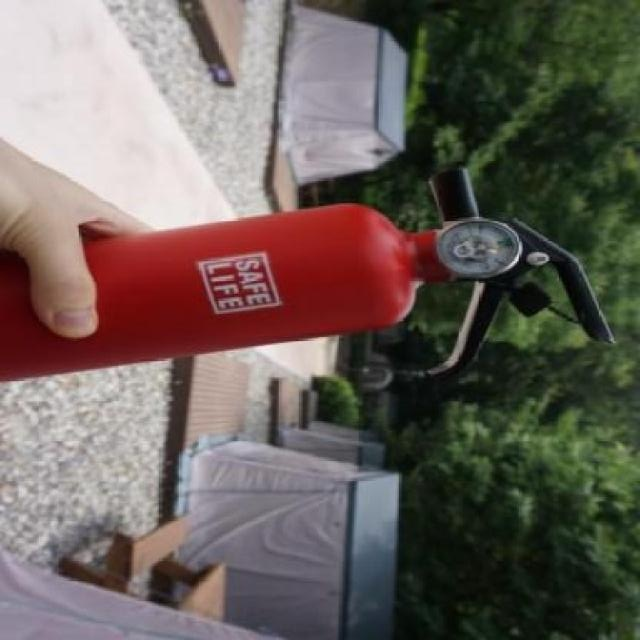fire extinguisher: (0, 168, 616, 383)
